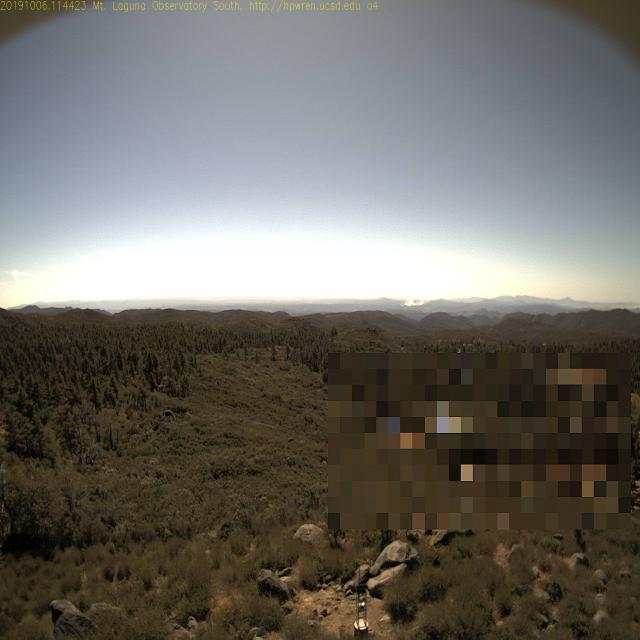smoke: (392, 291, 416, 308)
